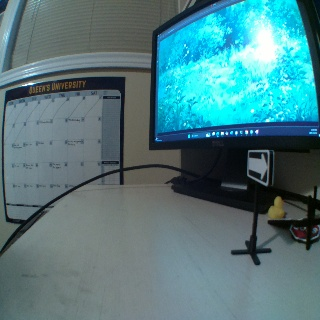sign_oneway_right: (246, 149, 273, 186)
